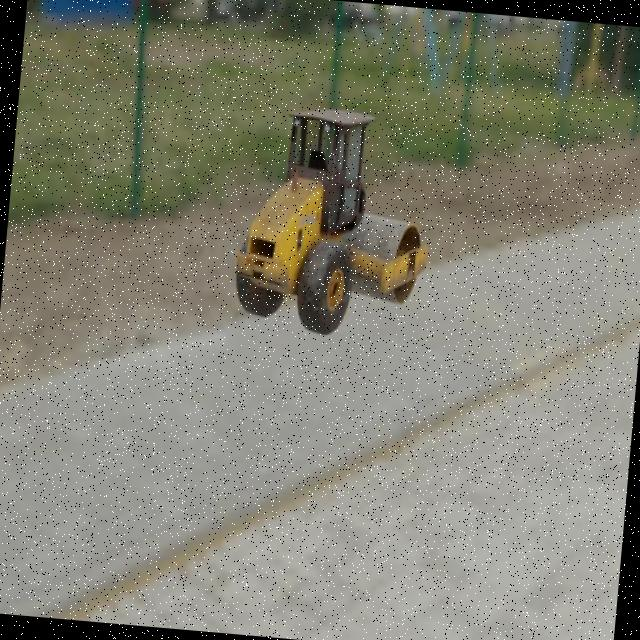Roller: (230, 100, 439, 344)
